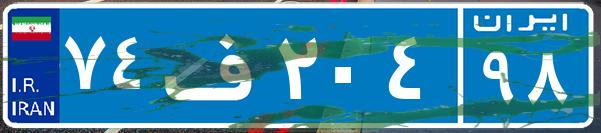0: (330, 28, 385, 110)
2: (273, 28, 330, 110)
4: (385, 28, 445, 110), (110, 28, 158, 105)
7: (57, 26, 110, 107)
8: (525, 38, 570, 115)
9: (475, 38, 525, 113)
ف: (158, 15, 273, 115)
